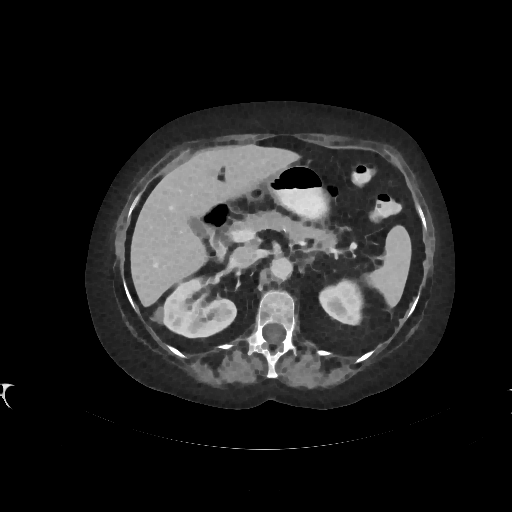Lesion: (152, 304, 167, 326)
